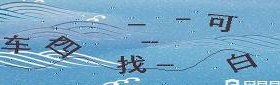chinese: (47, 33, 84, 62), (204, 10, 240, 35), (112, 52, 151, 75), (229, 49, 257, 75), (2, 34, 29, 57)
